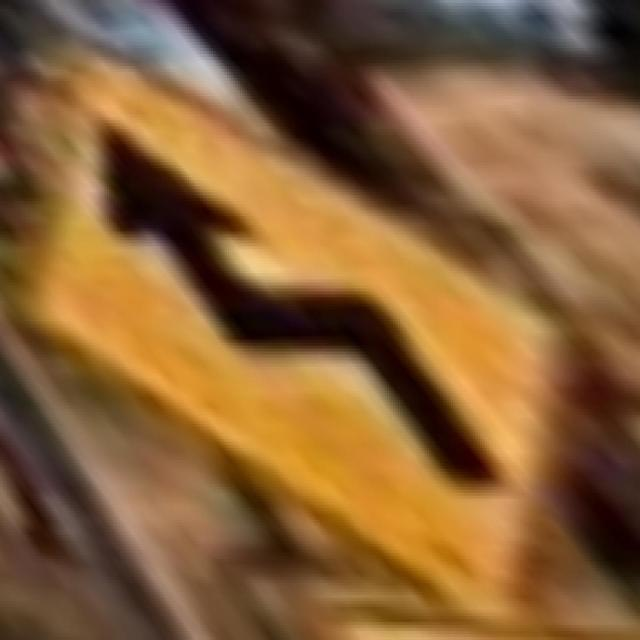Tikungan Ganda Pertama Ke Kiri: (24, 39, 551, 613)
